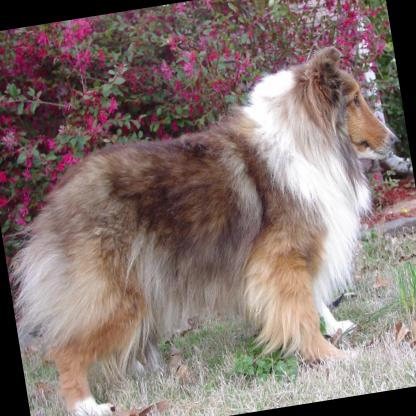Shetland_sheepdog: (0, 34, 416, 416)
